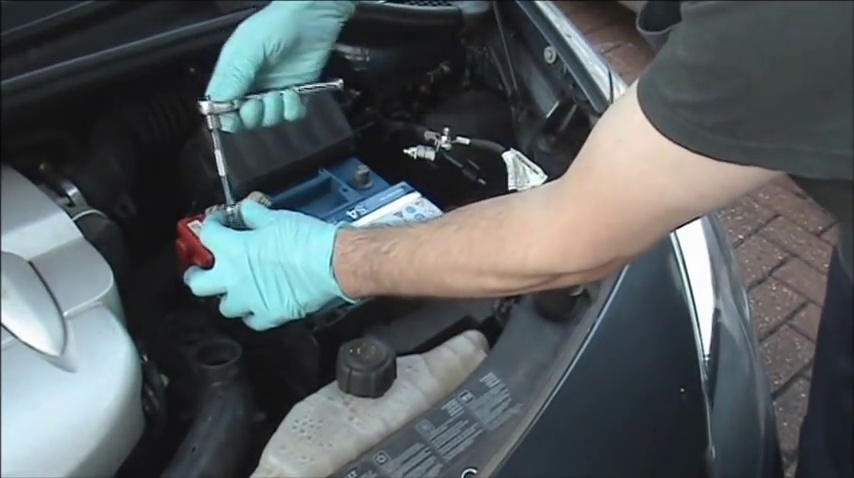battery: (169, 150, 457, 259)
neg_disconnected: (337, 142, 386, 200)
pos_touched: (165, 187, 279, 259)
